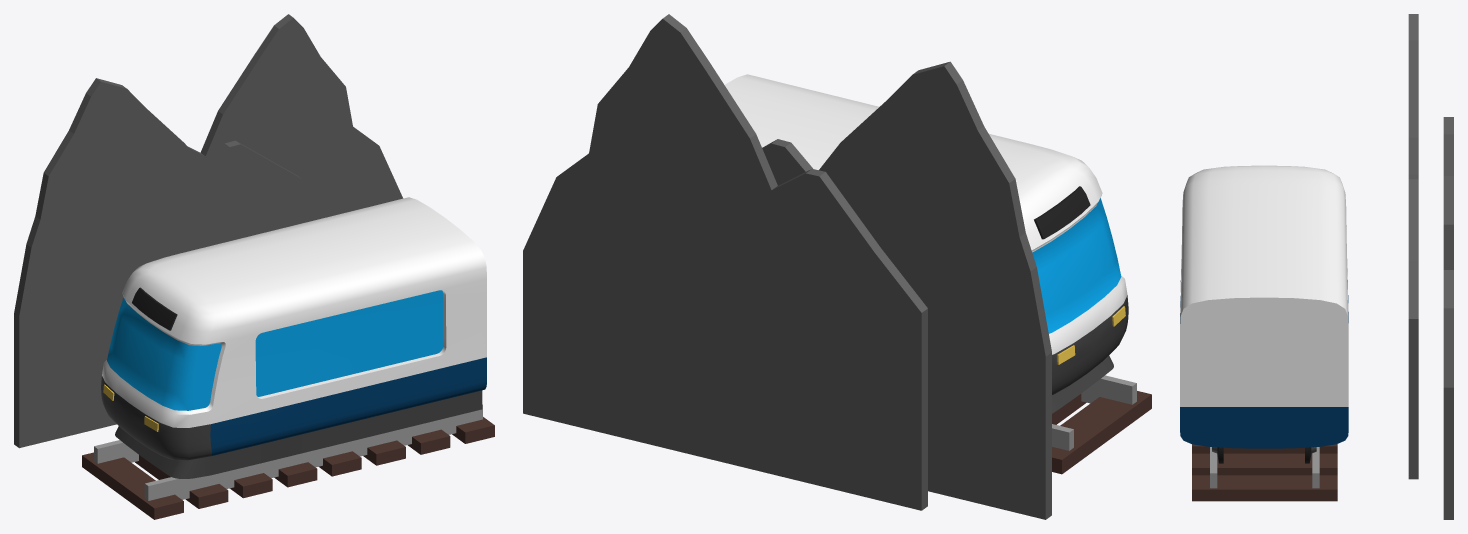
Rendered from mountain_railway.glb.
3 views of the same model, side by side, from view 1: azimuth 30°, elevation 25°; view 2: azimuth 150°, elevation 25°; view 3: azimuth 270°, elevation 25° (orthographic). The views are drawn at different scales.
Visible parts, largest first — view 1: Cube.598; view 2: Cube.598; view 3: Cube.598.
Boxes of the visible parts, <box> form: Cube.598: <box>14,14,494,519</box>; Cube.598: <box>523,14,1151,519</box>; Cube.598: <box>1180,14,1453,519</box>.
Bounding box in the file's own units: 2.69 × 2.2 × 1.57.
Materials: 1 (1 with a texture image).
